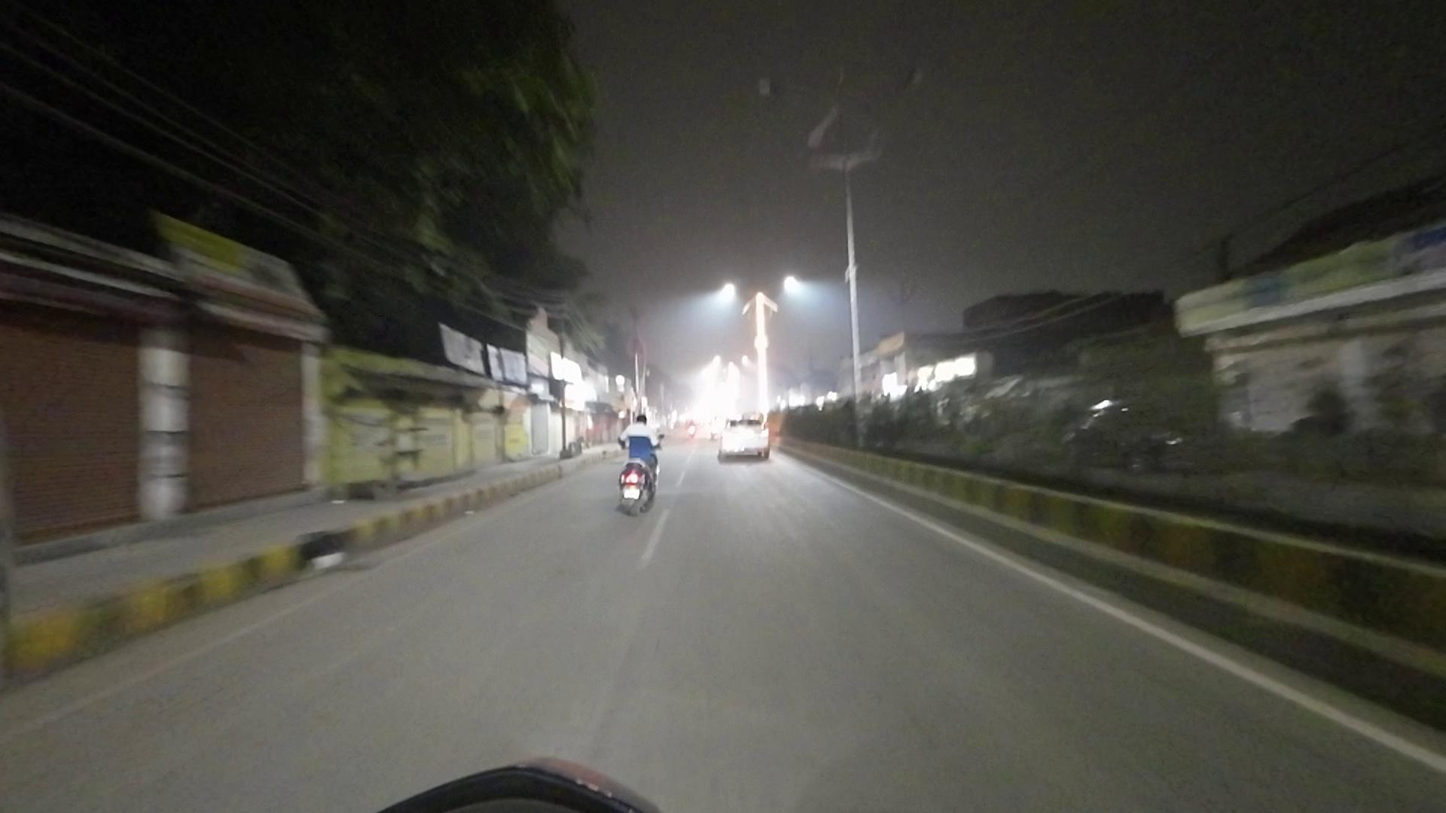streetlight: (752, 71, 831, 109), (851, 64, 927, 95)
